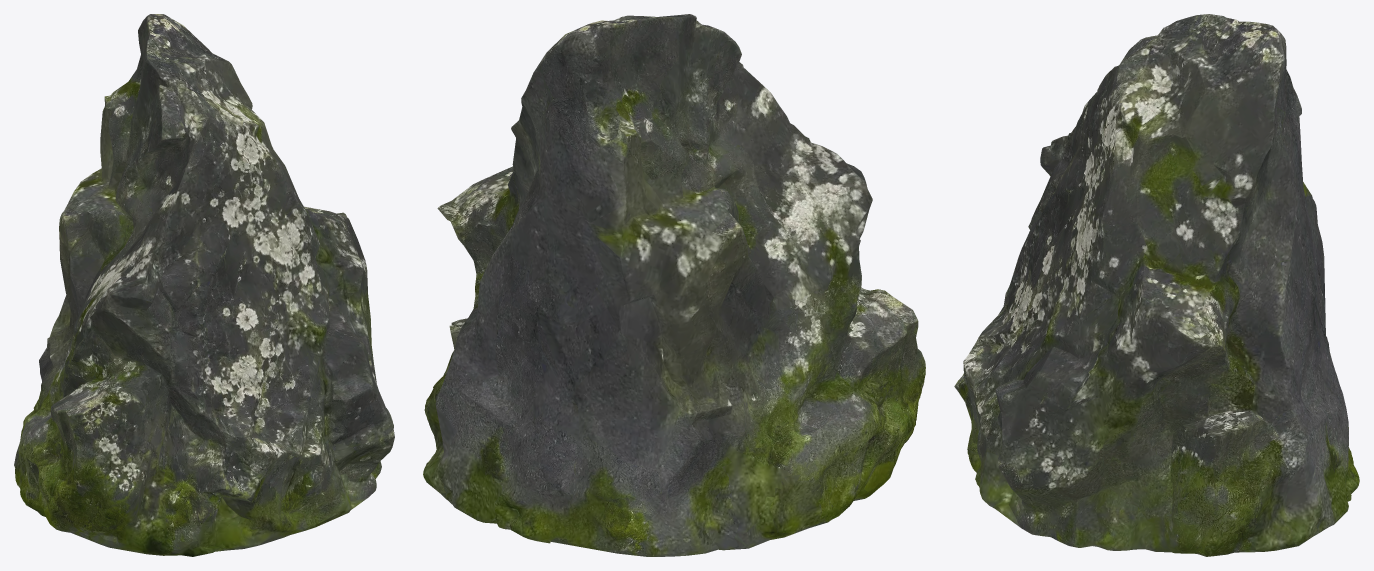
The model's file is rock-spire.glb.
3 renders of one model, left to right at view 1: azimuth 30°, elevation 25°; view 2: azimuth 150°, elevation 25°; view 3: azimuth 270°, elevation 25°, orthographic. The views are drawn at different scales.
Parts seen in each view (by area): view 1: Mesh_0; view 2: Mesh_0; view 3: Mesh_0.
Part boxes in pixels (left/top/right/bottom): Mesh_0: left=14, top=14, right=394, bottom=556; Mesh_0: left=423, top=14, right=925, bottom=556; Mesh_0: left=954, top=14, right=1359, bottom=556.
Bounding box in the file's own units: 1.66 × 1.9 × 1.55.
Materials: 1 (1 with a texture image).
